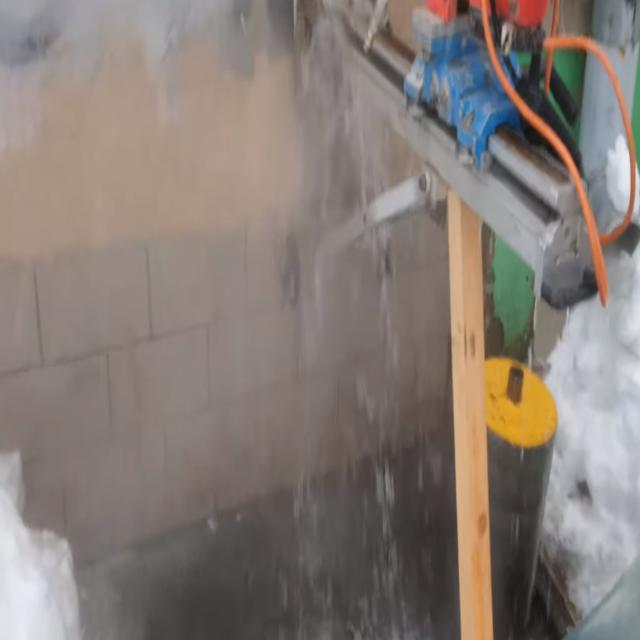leak: (294, 17, 419, 636)
